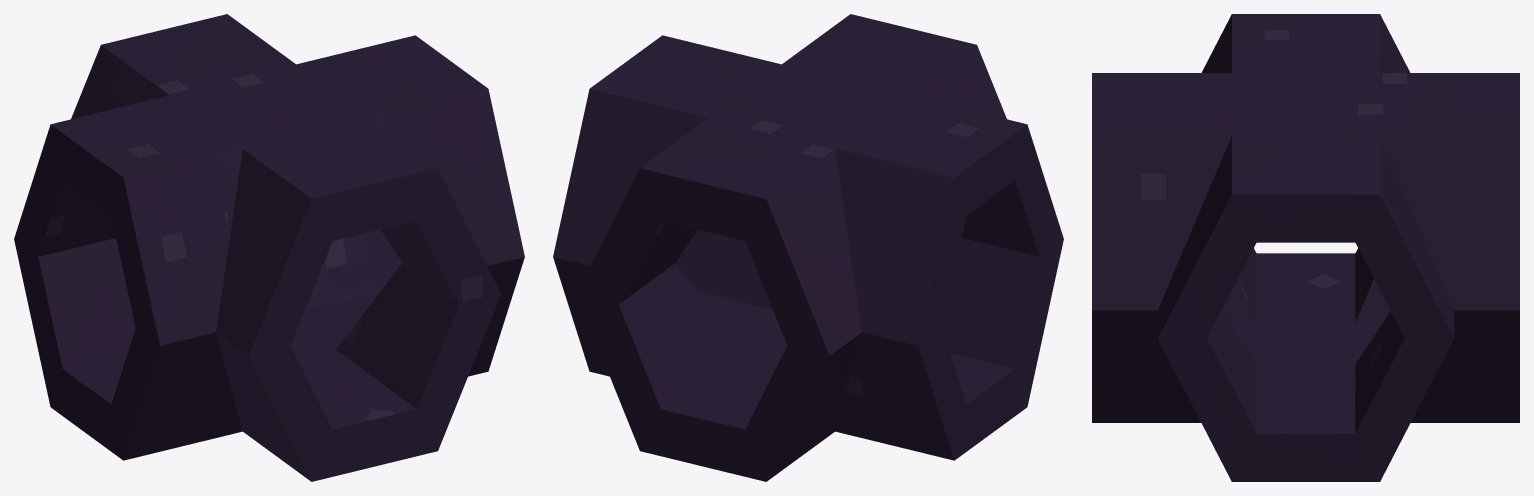
The model's file is item_artifactNode.glb.
3 renders of one model, left to right at view 1: azimuth 30°, elevation 25°; view 2: azimuth 150°, elevation 25°; view 3: azimuth 270°, elevation 25°, orthographic.
Parts seen in each view (by area): view 1: Donor_space-pipe_cross_0; view 2: Donor_space-pipe_cross_0; view 3: Donor_space-pipe_cross_0.
Part boxes in pixels (x1=…): Donor_space-pipe_cross_0: x1=14, y1=14, x2=524, y2=481; Donor_space-pipe_cross_0: x1=553, y1=14, x2=1063, y2=481; Donor_space-pipe_cross_0: x1=1092, y1=14, x2=1519, y2=481.
Bounding box in the file's own units: 0.27 × 0.2 × 0.27.
1 material, 1 textured.
